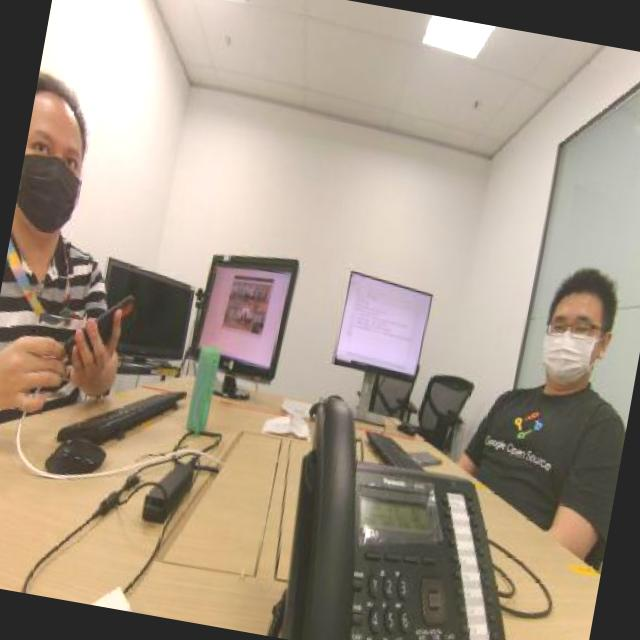Person: (0, 60, 145, 398), (476, 231, 640, 502)
